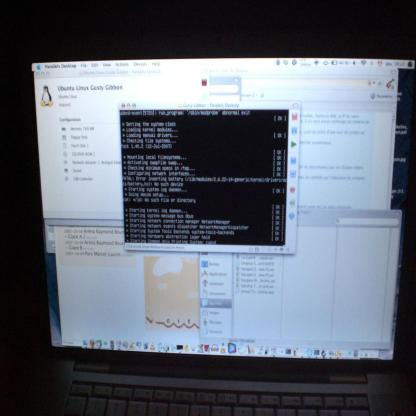board: (2, 66, 416, 416)
